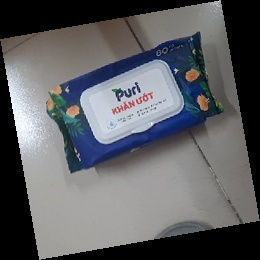Puri Xanh: (44, 31, 228, 175)
